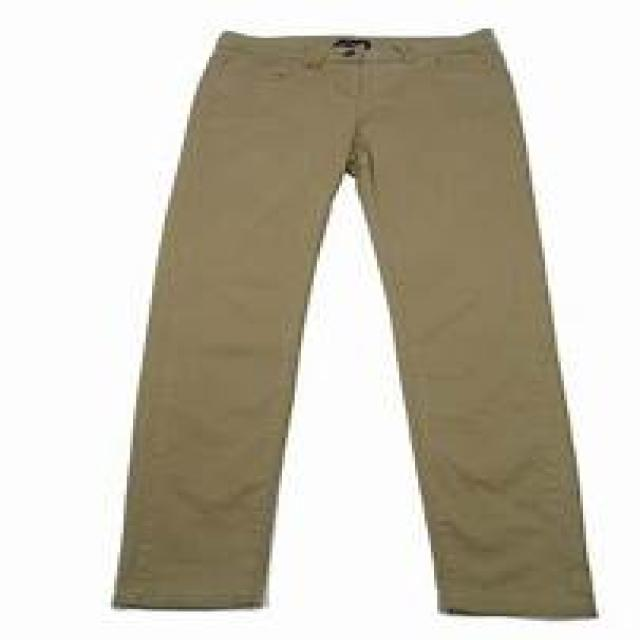long-pants: (106, 22, 597, 620)
